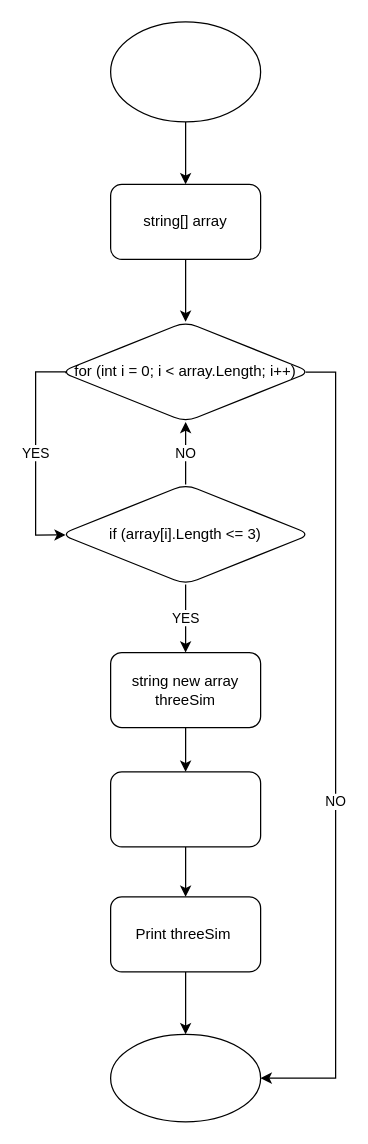
This 368x1144 diagram has some shape labels left out. The centre of each missing label's shape, as x and y in pixels:
"End GetThreeSim" goes at [185,1077].
"Start GetThreeSim" goes at [185,71].
"threeSim[i] = array[i]" goes at [185,809].
